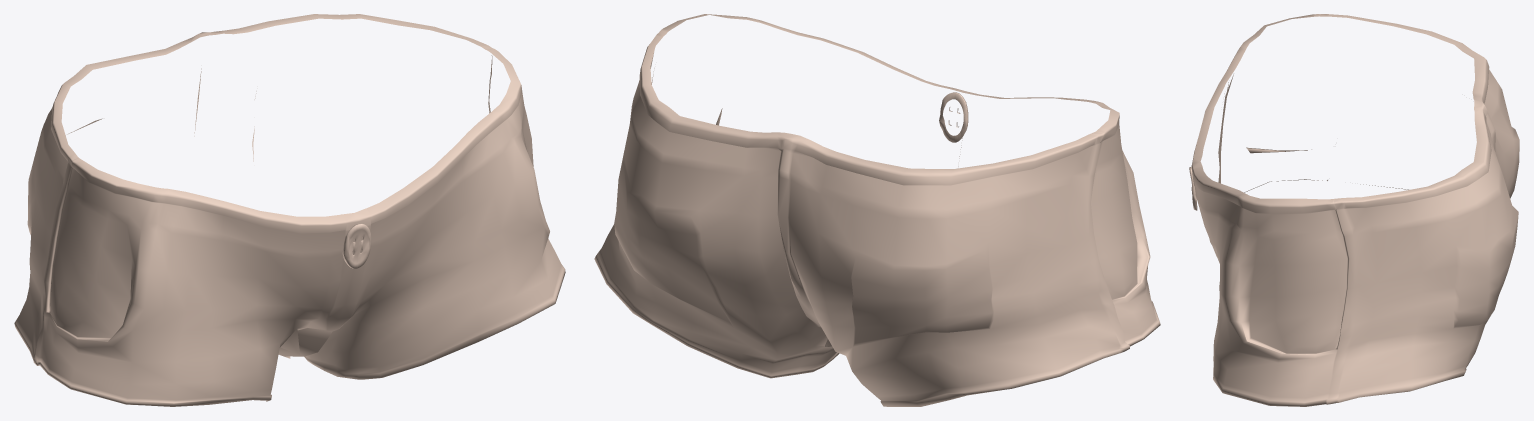
The model's file is shorts.glb.
The picture shows the model from 3 angles, left to right: view 1: azimuth 30°, elevation 25°; view 2: azimuth 150°, elevation 25°; view 3: azimuth 270°, elevation 25°; orthographic projection. The views are drawn at different scales.
Parts seen in each view (by area): view 1: Garment; view 2: Garment; view 3: Garment.
Boxes of the visible parts, box(x1,y1,x2,y2) form: Garment: box(14, 14, 565, 406); Garment: box(594, 14, 1160, 406); Garment: box(1189, 14, 1519, 406).
Bounding box in the file's own units: 0.4111 × 0.2242 × 0.2576.
